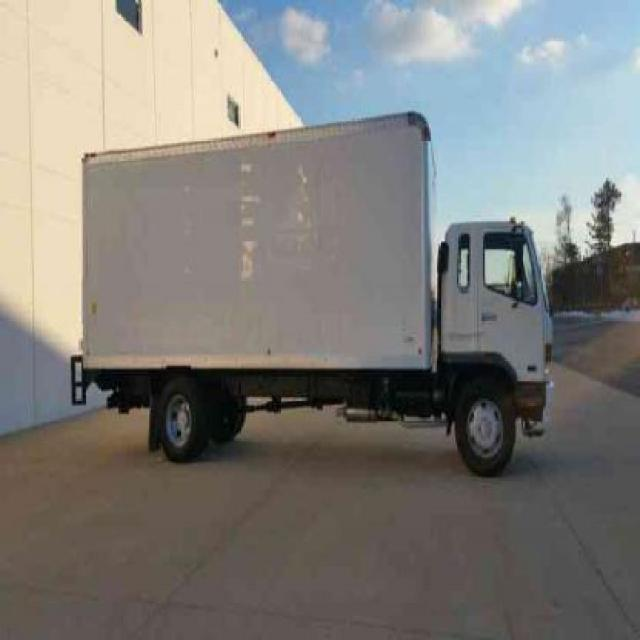truck: (71, 110, 557, 469)
